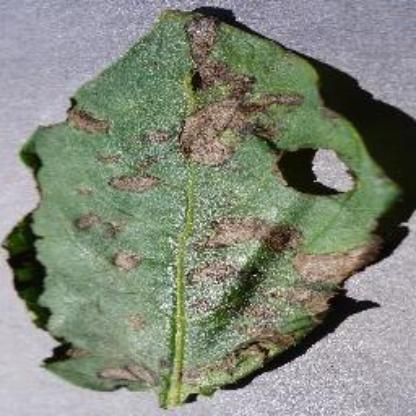Early-Blight: (5, 5, 408, 411)
